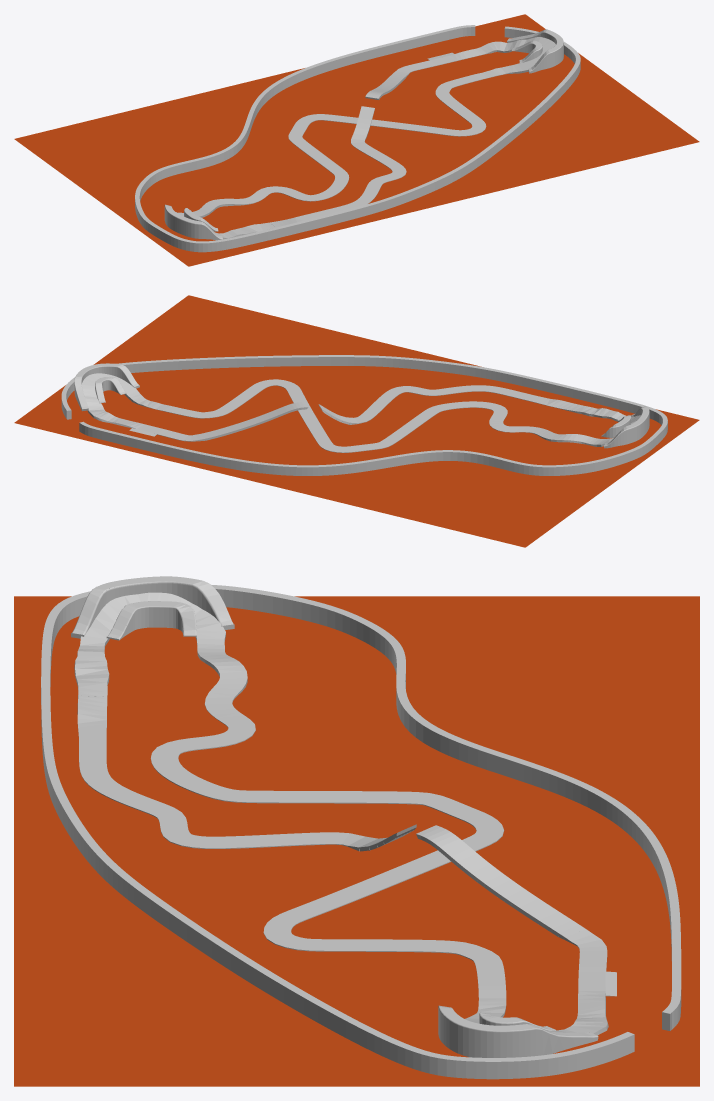
File: race_track2.obj
The picture shows the model from 3 angles, top to bottom: view 1: azimuth 30°, elevation 25°; view 2: azimuth 150°, elevation 25°; view 3: azimuth 270°, elevation 25°; orthographic projection. The views are drawn at different scales.
Visible parts, largest first — view 1: Plane.001_Plane.002, Cube_Cube.001, Plane, Wall_2.002_Cube.004, Wall_2.006_Cube.010; view 2: Plane.001_Plane.002, Cube_Cube.001, Plane, Wall_2.006_Cube.010, Wall_2.002_Cube.004, Wall_2.007_Cube.012; view 3: Plane.001_Plane.002, Plane, Cube_Cube.001, Wall_2.006_Cube.010, Wall_2.002_Cube.004, Wall_2.005_Cube.014.
Part boxes in pixels (<box>): Plane.001_Plane.002: <box>14,14,699,266</box>; Cube_Cube.001: <box>135,25,580,252</box>; Plane: <box>177,37,555,239</box>; Wall_2.002_Cube.004: <box>164,204,222,240</box>; Wall_2.006_Cube.010: <box>507,29,563,73</box>; Plane.001_Plane.002: <box>14,295,699,547</box>; Cube_Cube.001: <box>61,355,667,475</box>; Plane: <box>81,373,640,452</box>; Wall_2.006_Cube.010: <box>74,363,139,411</box>; Wall_2.002_Cube.004: <box>604,406,649,448</box>; Wall_2.007_Cube.012: <box>95,377,126,403</box>; Plane.001_Plane.002: <box>14,596,699,1086</box>; Plane: <box>74,592,608,1035</box>; Cube_Cube.001: <box>41,585,681,1079</box>; Wall_2.006_Cube.010: <box>438,1005,598,1057</box>; Wall_2.002_Cube.004: <box>71,576,234,638</box>; Wall_2.005_Cube.014: <box>106,601,196,640</box>.
Size of the model in its own units: 4.91 by 0.2231 by 2.91.
